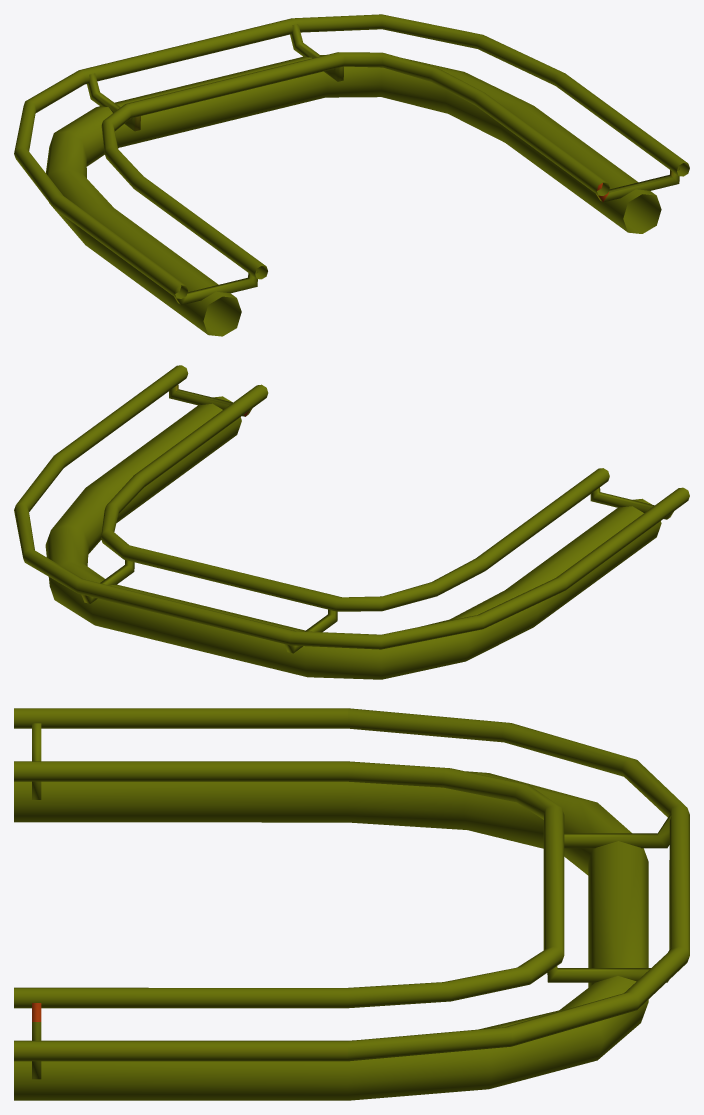
The picture shows the model from 3 angles, top to bottom: view 1: azimuth 30°, elevation 25°; view 2: azimuth 150°, elevation 25°; view 3: azimuth 270°, elevation 25°; orthographic projection. The views are drawn at different scales.
Parts seen in each view (by area): view 1: Mesh; view 2: Mesh; view 3: Mesh.
Part boxes in pixels (x1,y1,x2,y2): Mesh: (14, 14, 689, 336); Mesh: (14, 365, 689, 679); Mesh: (14, 708, 689, 1100).
Bounding box in the file's own units: 365 × 41.58 × 306.
